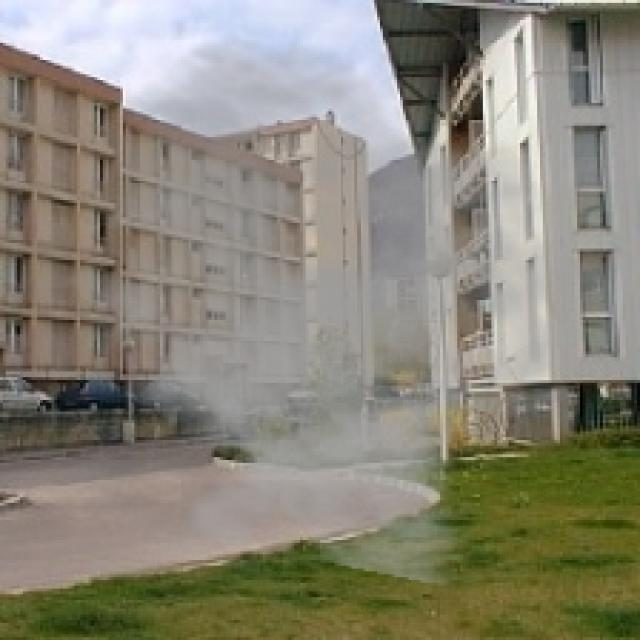Smoke: (37, 34, 603, 589)
